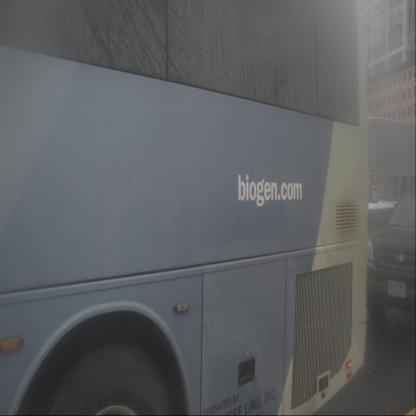vehicle-bus-rigid: (0, 0, 370, 415)
vehicle-car: (363, 186, 416, 326)
